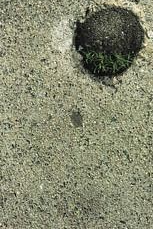Spalling: (73, 6, 145, 78)
